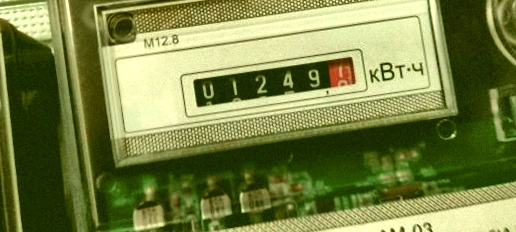0: (199, 78, 216, 100)
1: (226, 75, 241, 97)
2: (251, 72, 270, 96)
4: (280, 68, 295, 89)
7: (333, 57, 348, 79)
9: (306, 66, 322, 89)
screen: (176, 43, 372, 120)
